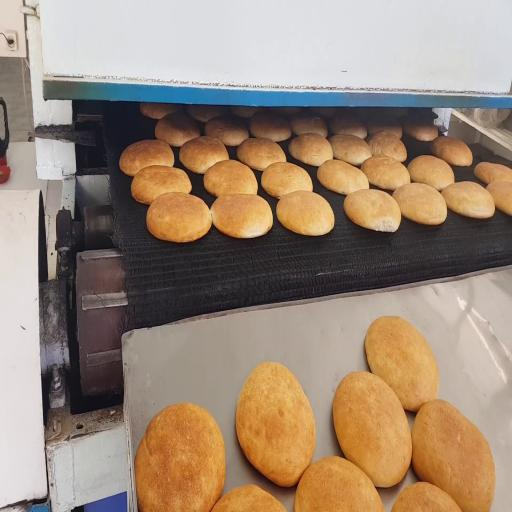bread: (236, 362, 315, 486), (135, 403, 225, 511), (412, 400, 495, 511), (333, 372, 411, 487), (365, 317, 438, 411), (294, 457, 384, 511), (147, 192, 211, 242), (211, 194, 272, 238), (276, 191, 334, 236), (344, 190, 401, 232), (131, 166, 191, 204), (393, 183, 447, 225), (119, 140, 174, 176), (392, 482, 460, 511), (204, 160, 257, 196), (212, 485, 285, 511), (442, 182, 494, 218), (179, 136, 229, 173), (317, 160, 369, 195), (262, 163, 312, 198), (361, 155, 410, 190), (237, 138, 286, 171), (408, 156, 454, 191), (155, 113, 200, 147), (289, 134, 333, 166), (249, 111, 291, 142), (329, 135, 371, 166), (205, 117, 248, 146), (367, 131, 406, 162), (431, 137, 472, 166), (290, 111, 327, 137), (330, 115, 367, 138), (487, 181, 511, 215), (474, 162, 511, 184), (402, 119, 438, 141), (366, 117, 402, 138), (140, 103, 182, 119), (187, 105, 225, 122), (231, 106, 261, 118), (273, 107, 304, 118), (310, 107, 340, 118)
